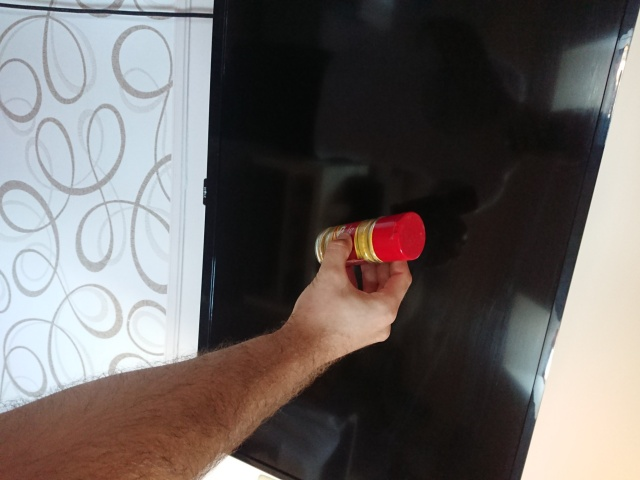Kotanyi Curry Spices Mix 70g: (313, 209, 429, 269)
